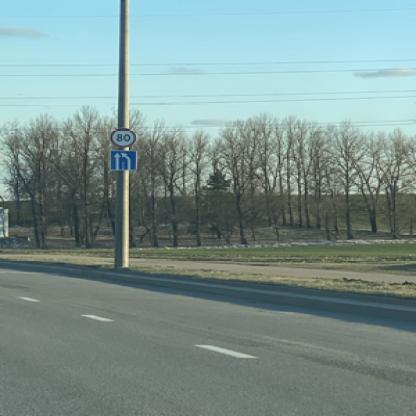Speed Limit 80: (109, 126, 135, 148)
